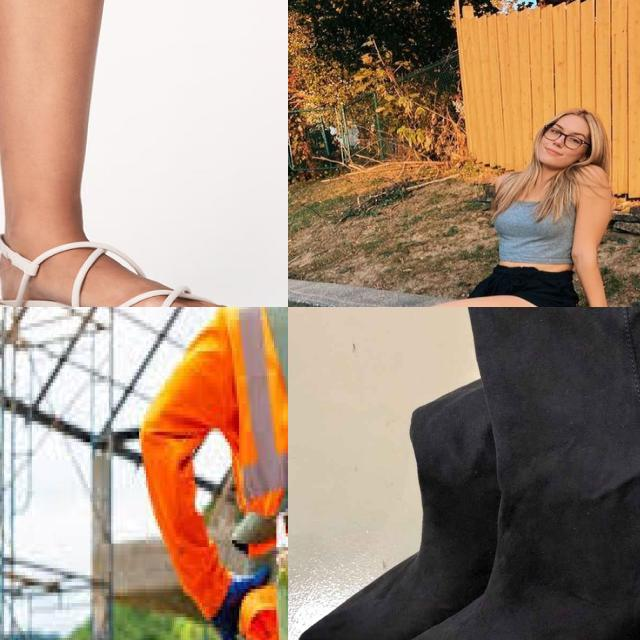Harness: (213, 307, 288, 640)
Sandals: (288, 307, 640, 640), (0, 217, 259, 307)
